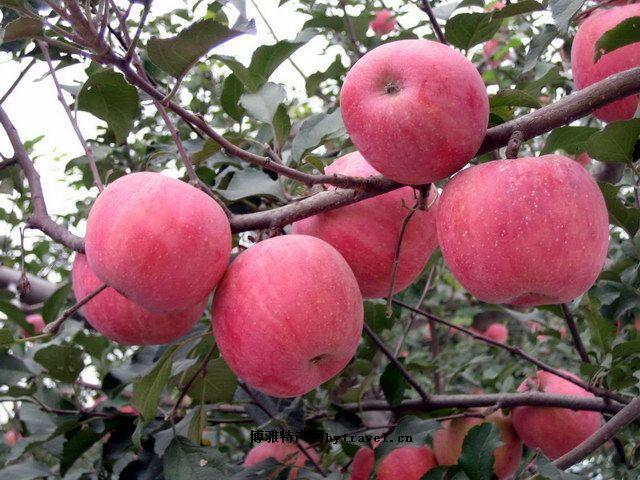apple: (429, 156, 606, 308), (206, 234, 359, 399), (337, 37, 490, 186), (292, 149, 440, 299), (84, 170, 234, 310)
